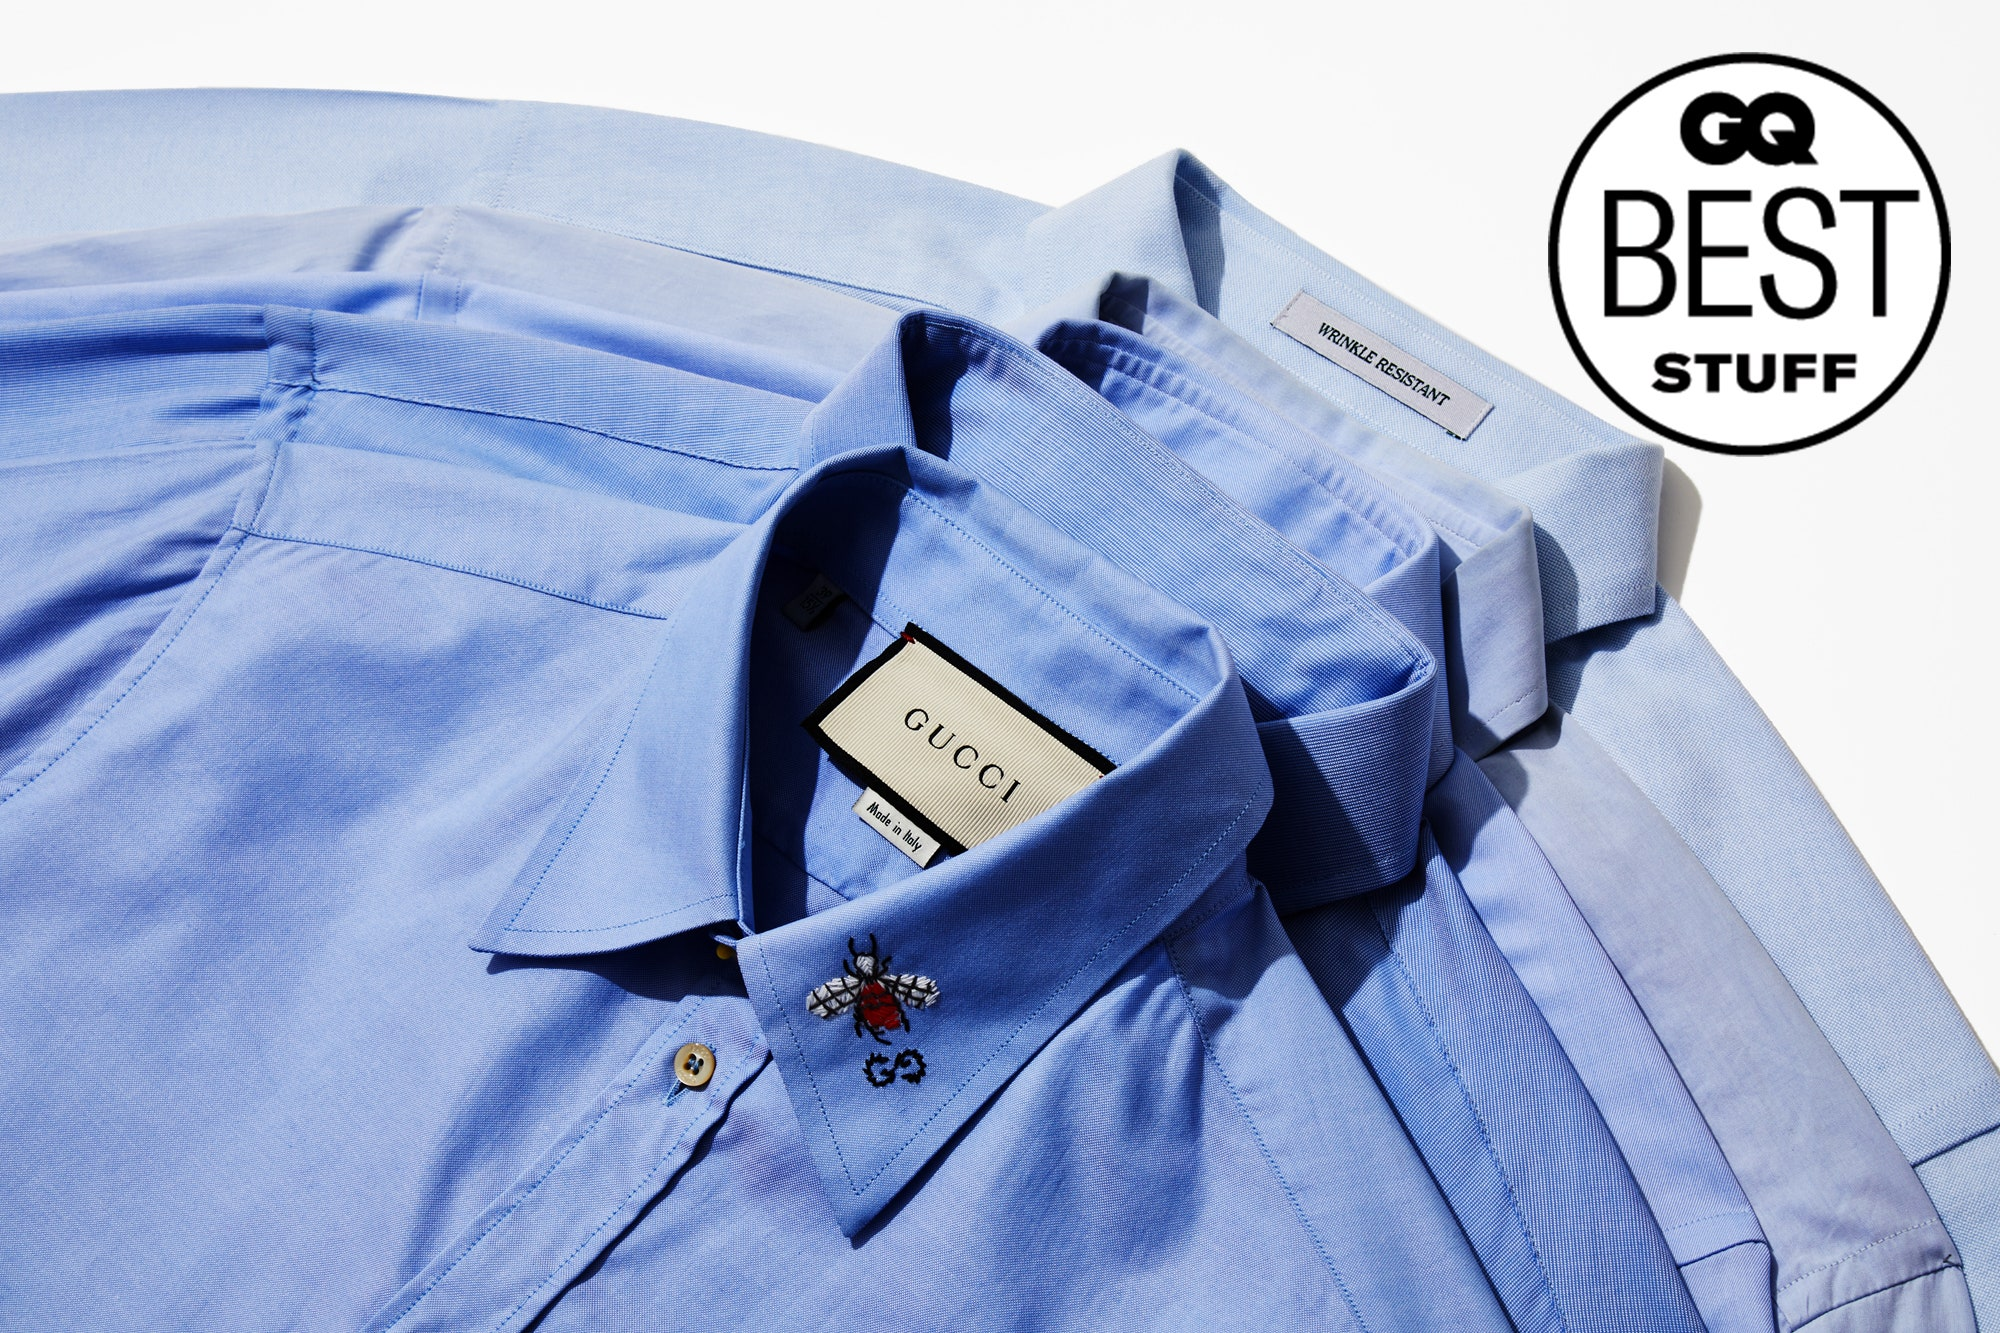long-sleeved official shirt: (4, 94, 2000, 1333)
